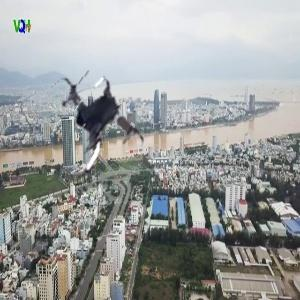drone: (31, 67, 152, 188)
